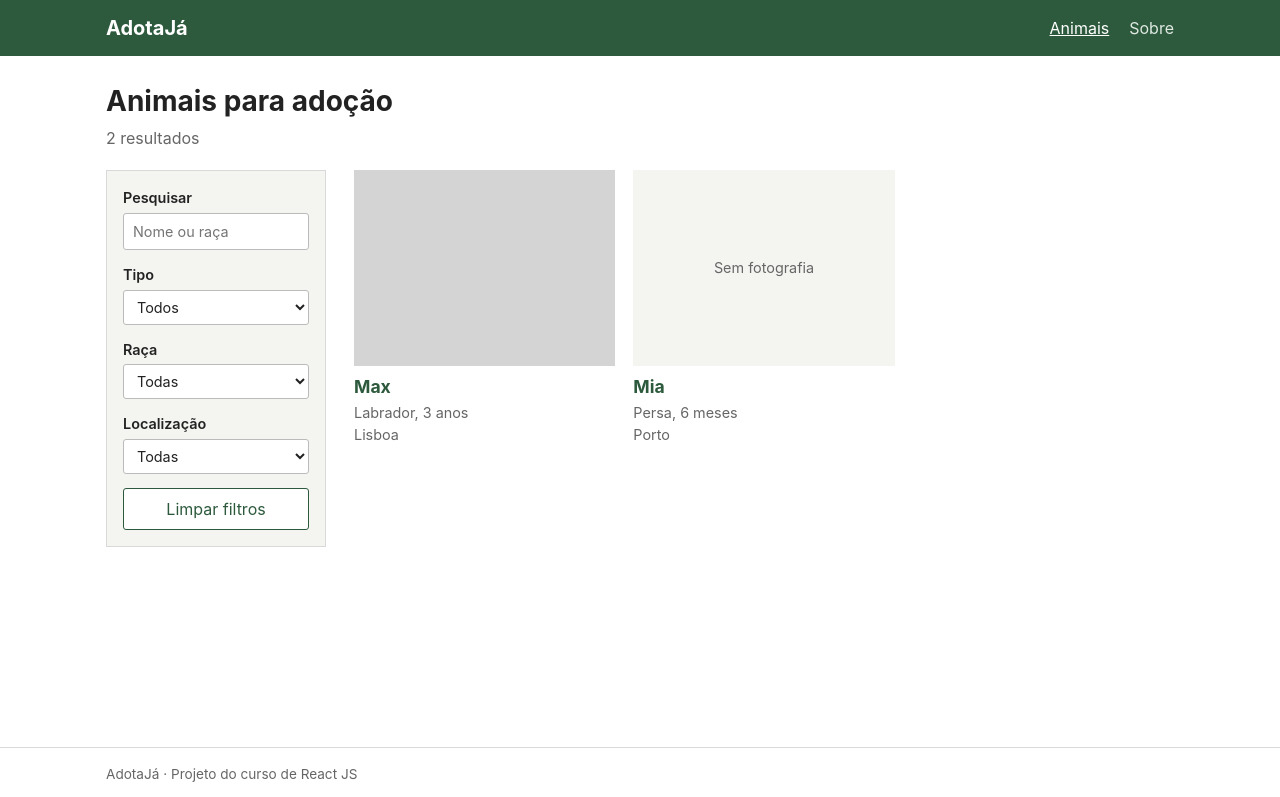
navegação › abre o detalhe ao clicar num animal
Click the heading "Mia" at coordinates (649, 386), box left=633, top=376, right=665, bottom=397
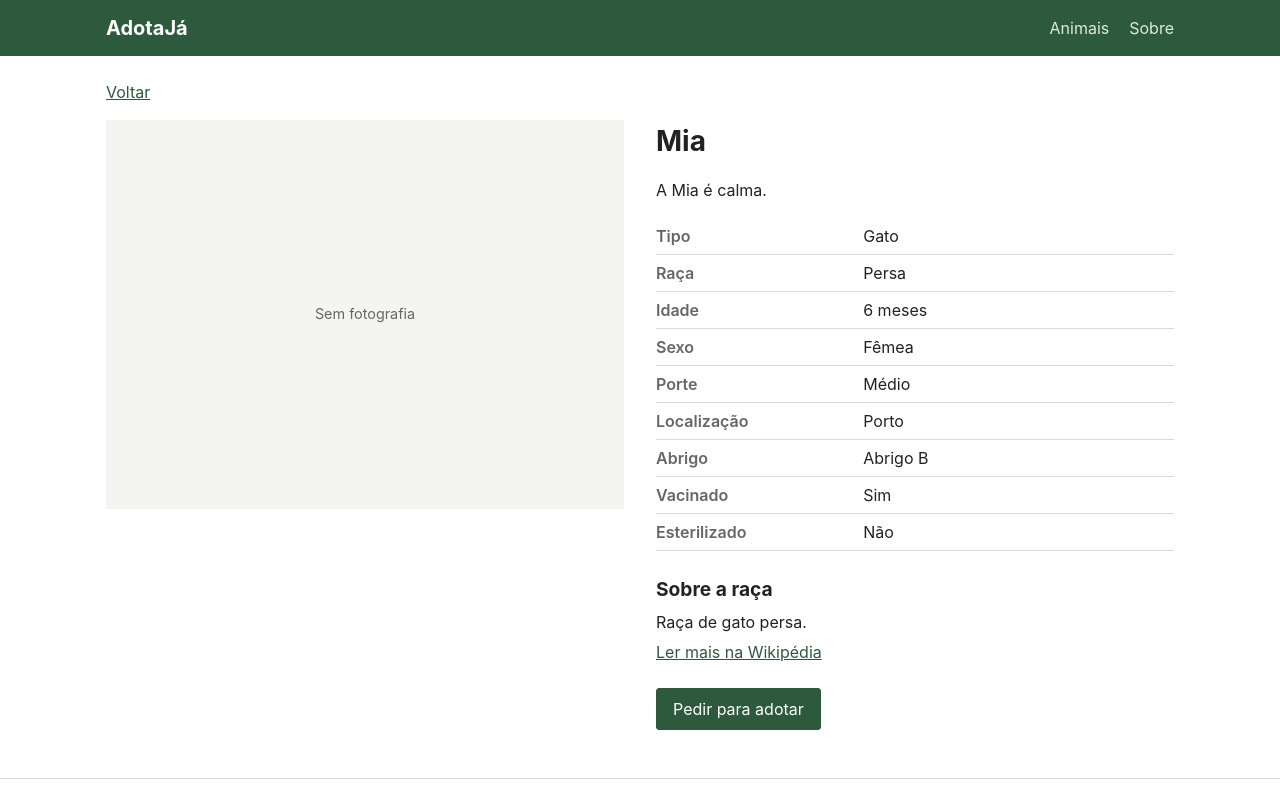
expect the heading "Mia" is shown: met, box left=656, top=124, right=706, bottom=158
expect the text "Raça de gato persa." is shown: met, box left=656, top=612, right=807, bottom=632
